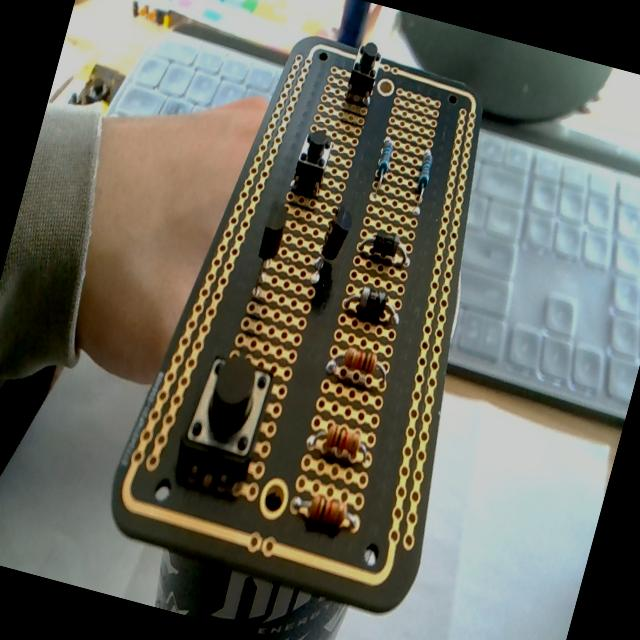diode: (342, 280, 404, 328), (355, 226, 415, 271)
resistor: (288, 486, 362, 536), (324, 343, 391, 392), (306, 419, 372, 466), (368, 136, 396, 200), (408, 145, 436, 208)
switch: (171, 346, 279, 495), (288, 125, 335, 199), (342, 37, 384, 104)
transistor: (248, 201, 290, 295), (308, 205, 354, 290)
